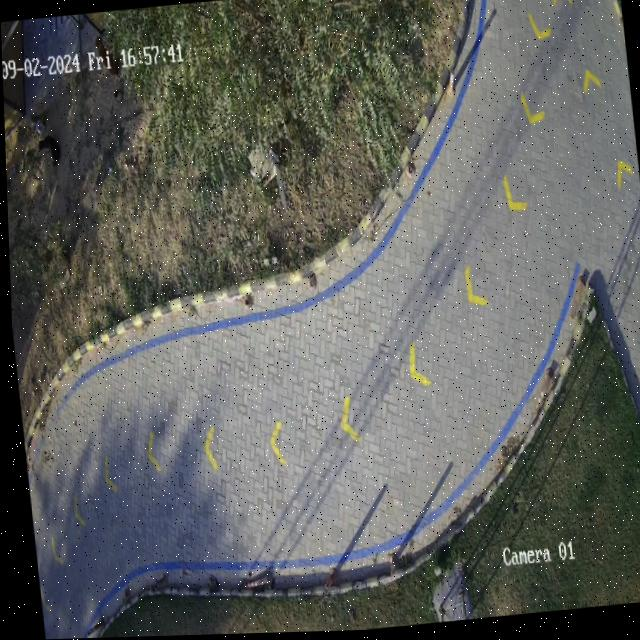No Car: (1, 0, 640, 639)
